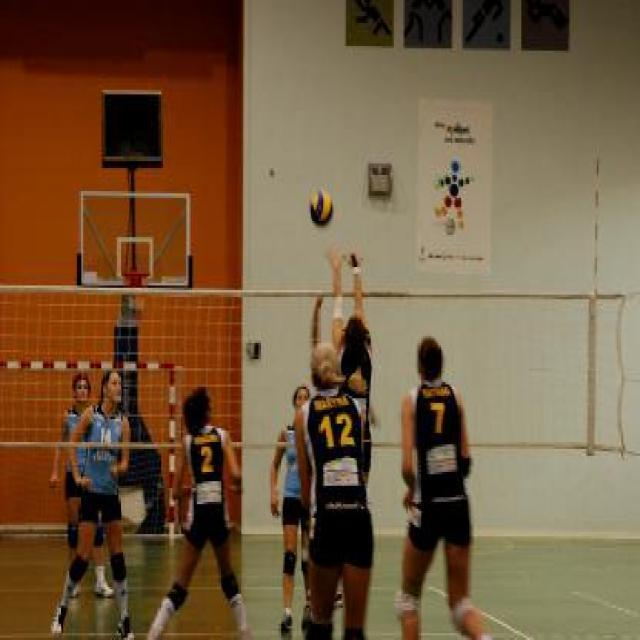volleyball: (309, 190, 333, 227)
